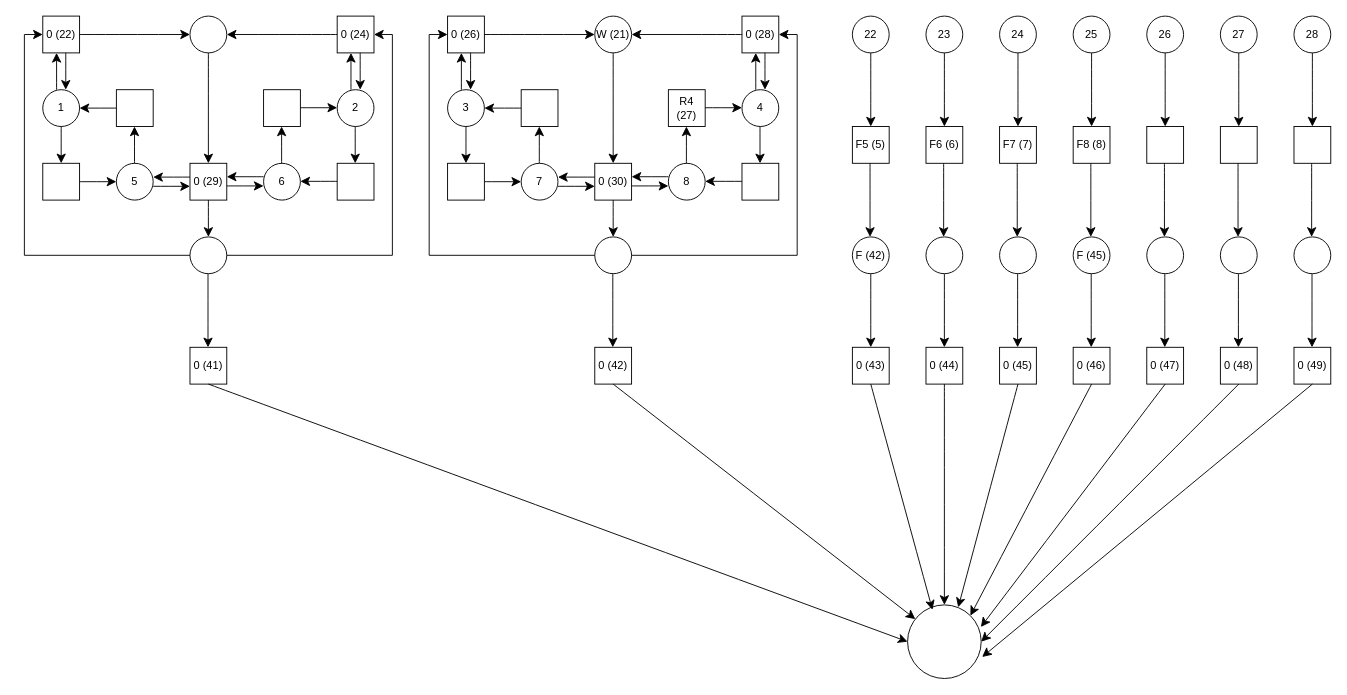
This 1347x695 diagram has some shape labels left out. The shapes that lost their labels are listed below. From the top down, each one's centre as x and y in pixels, then its label:
(x=208, y=34): W (20)
(x=134, y=107): R1 (21)
(x=281, y=107): R2 (23)
(x=539, y=107): R3 (25)
(x=1165, y=144): F9 (9)
(x=1238, y=144): F10 (10)
(x=1312, y=144): F11 (11)
(x=61, y=181): F1 (1)
(x=355, y=181): F2 (2)
(x=465, y=181): F3 (3)
(x=760, y=181): F4 (4)
(x=208, y=255): F (40)
(x=613, y=255): F (41)
(x=944, y=255): F (43)
(x=1017, y=255): F (44)
(x=1165, y=255): F (46)
(x=1238, y=255): F (47)
(x=1312, y=255): F (48)
(x=944, y=641): SYS FAIL (49)
